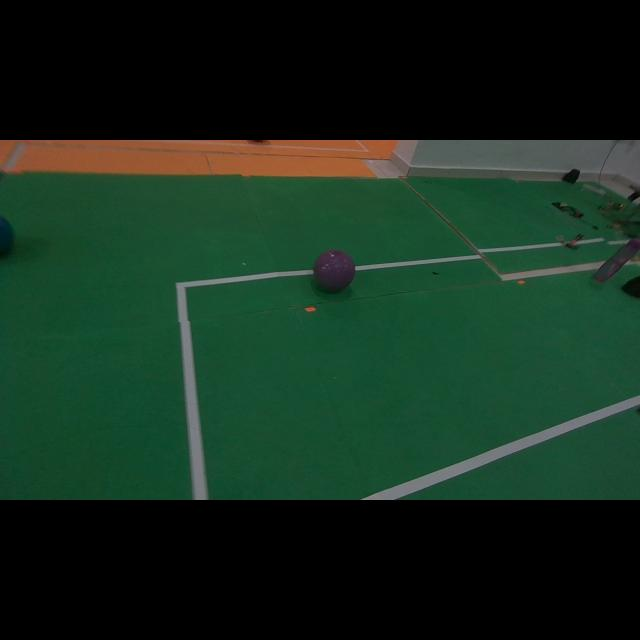B: (0, 215, 14, 252)
P: (314, 250, 355, 291)
